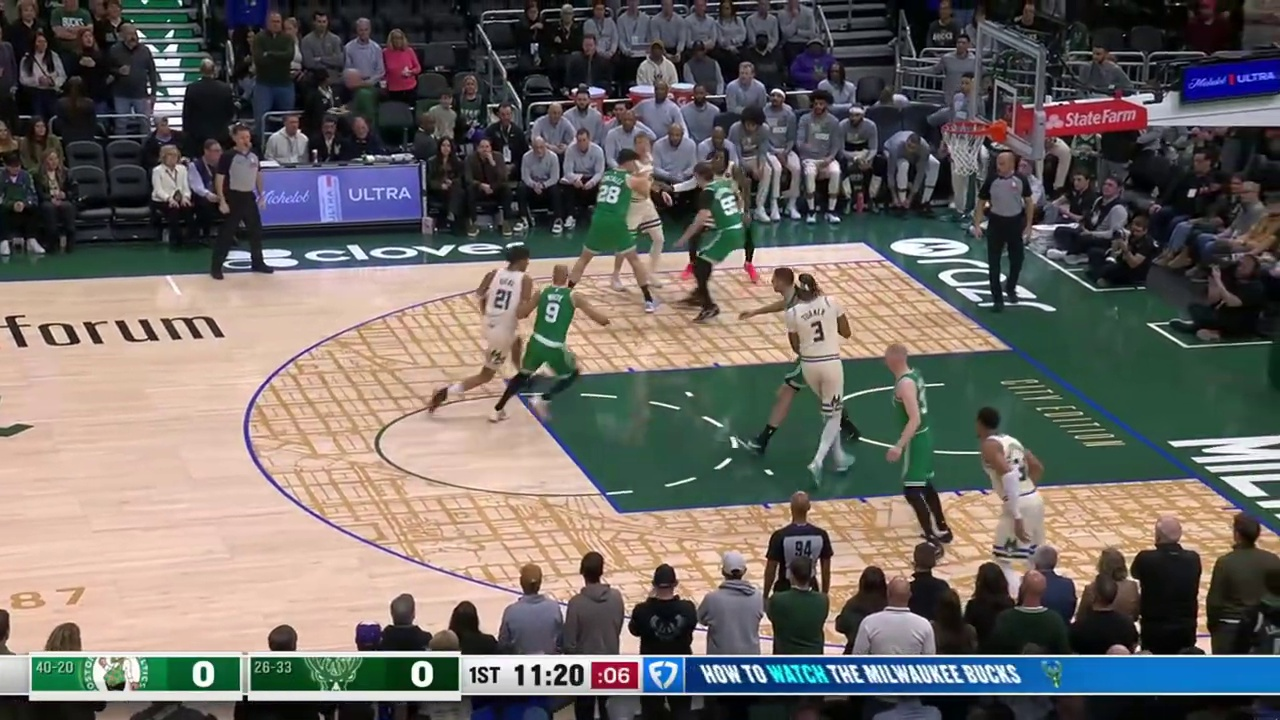21_OusmaneDieng: (483, 238, 537, 358)
28_HugoGonzalez: (587, 141, 648, 249)
30_SamHauser: (869, 338, 962, 559)
34_GiannisAntetokounmpo: (976, 397, 1053, 571)
3_MylesTurner: (785, 271, 860, 489)
55_BaylorScheierman: (673, 159, 750, 327)
9_DerrickWhite: (527, 265, 604, 414)
